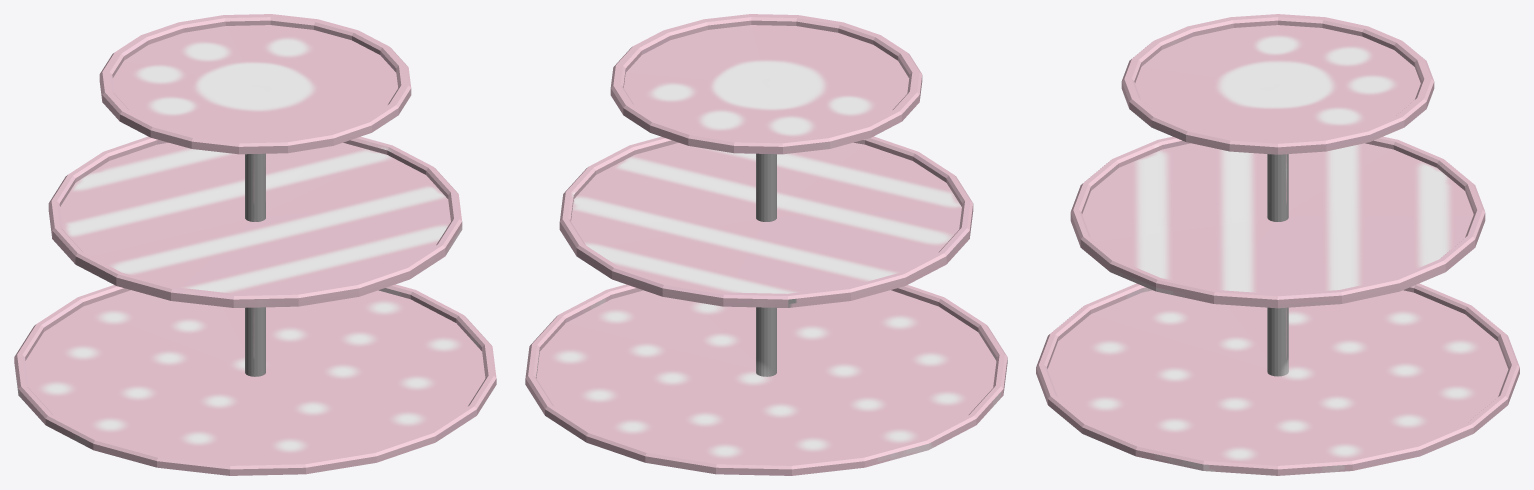
Rendered from CakeStand.fbx.
3 views of the same model, side by side, from view 1: azimuth 30°, elevation 25°; view 2: azimuth 150°, elevation 25°; view 3: azimuth 270°, elevation 25° (orthographic).
Parts seen in each view (by area): view 1: CakeStand; view 2: CakeStand; view 3: CakeStand.
Part boxes in pixels (left/top/right/bottom): CakeStand: left=14, top=14, right=496, bottom=475; CakeStand: left=525, top=14, right=1007, bottom=475; CakeStand: left=1036, top=14, right=1519, bottom=475.
Size of the model in its own units: 5.2 by 4.06 by 5.2.
1 material, 1 textured.
